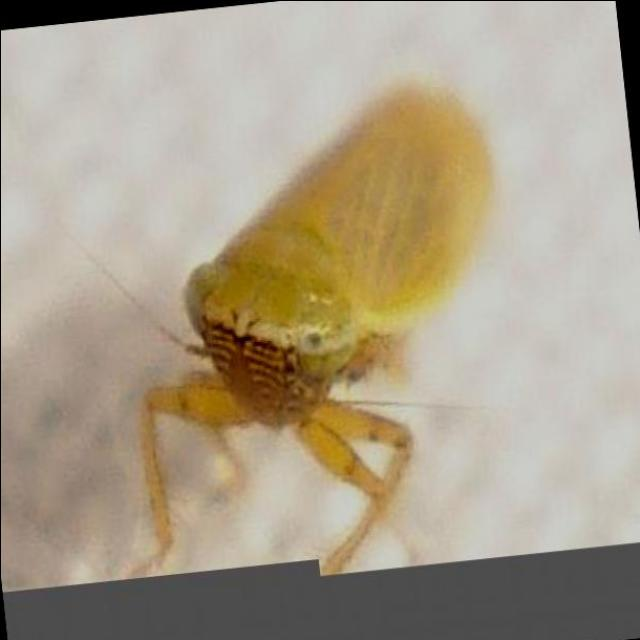green leaf hopper: (143, 88, 491, 572)
